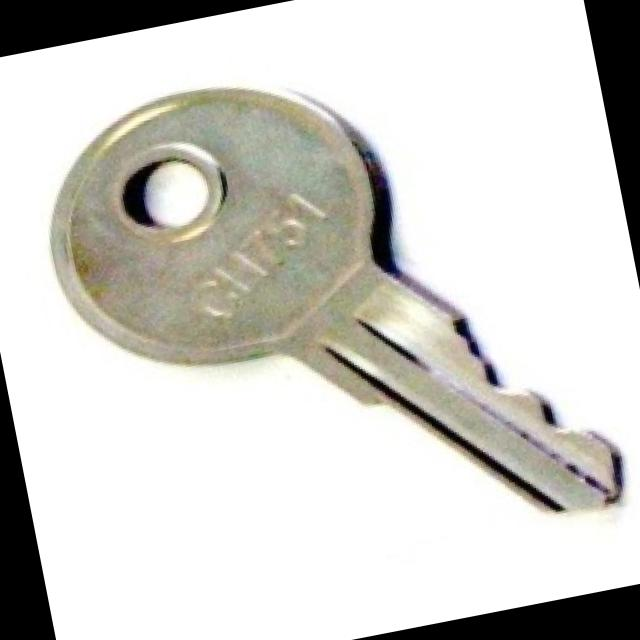anahtar: (1, 12, 638, 616)
